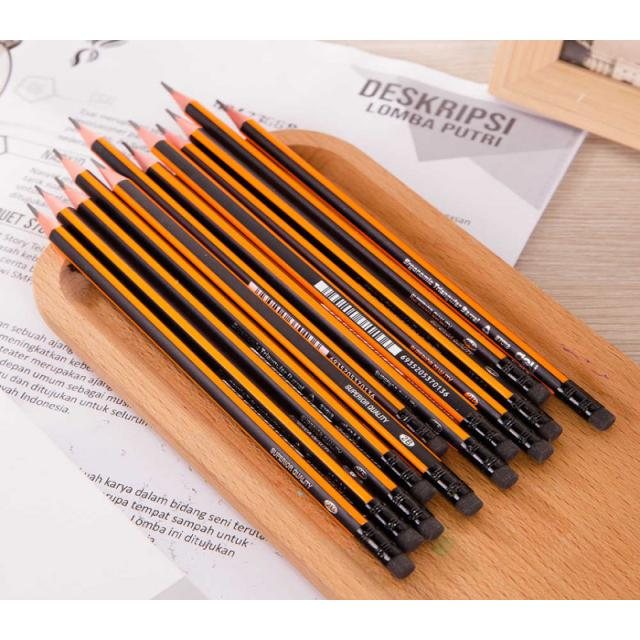pencil: (25, 200, 424, 588), (47, 171, 452, 546), (33, 180, 432, 558), (85, 153, 492, 523), (119, 140, 526, 503), (125, 119, 527, 472), (52, 145, 441, 509), (215, 98, 624, 439), (156, 123, 560, 468), (65, 113, 457, 466), (163, 108, 570, 445), (157, 78, 557, 409)
